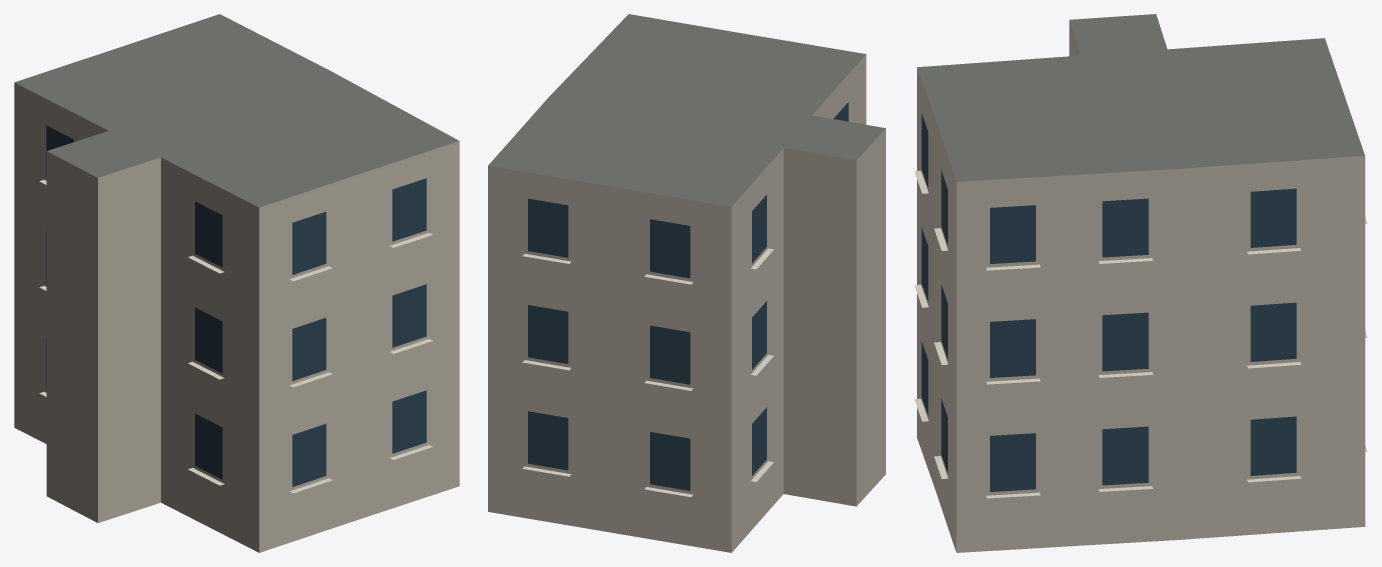
The picture shows the model from 3 angles, left to right: view 1: azimuth 30°, elevation 25°; view 2: azimuth 150°, elevation 25°; view 3: azimuth 270°, elevation 25°; orthographic projection. The views are drawn at different scales.
Parts seen in each view (by area): view 1: Footprint 0, Inferred window bays, Window sills; view 2: Footprint 0, Inferred window bays, Window sills; view 3: Footprint 0, Inferred window bays, Window sills.
Boxes of the visible parts, left/top/right/bottom form: Footprint 0: left=14, top=14, right=459, bottom=552; Inferred window bays: left=46, top=125, right=426, bottom=486; Window sills: left=39, top=179, right=432, bottom=493; Footprint 0: left=488, top=14, right=885, bottom=552; Inferred window bays: left=528, top=102, right=848, bottom=490; Window sills: left=522, top=248, right=773, bottom=497; Footprint 0: left=917, top=14, right=1365, bottom=552; Inferred window bays: left=921, top=114, right=1296, bottom=491; Window sills: left=914, top=170, right=1367, bottom=498.
Size of the model in its own units: 10.69 by 10.88 by 12.05.
